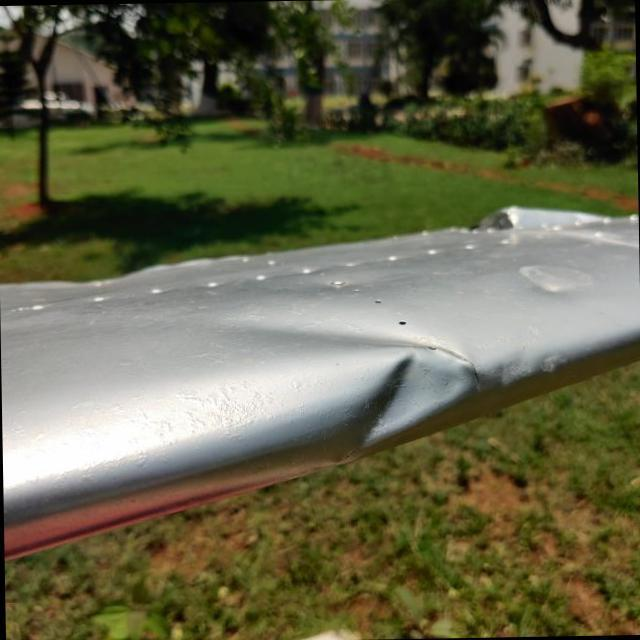Dent: (322, 322, 481, 473)
Rupture: (443, 344, 492, 398)
